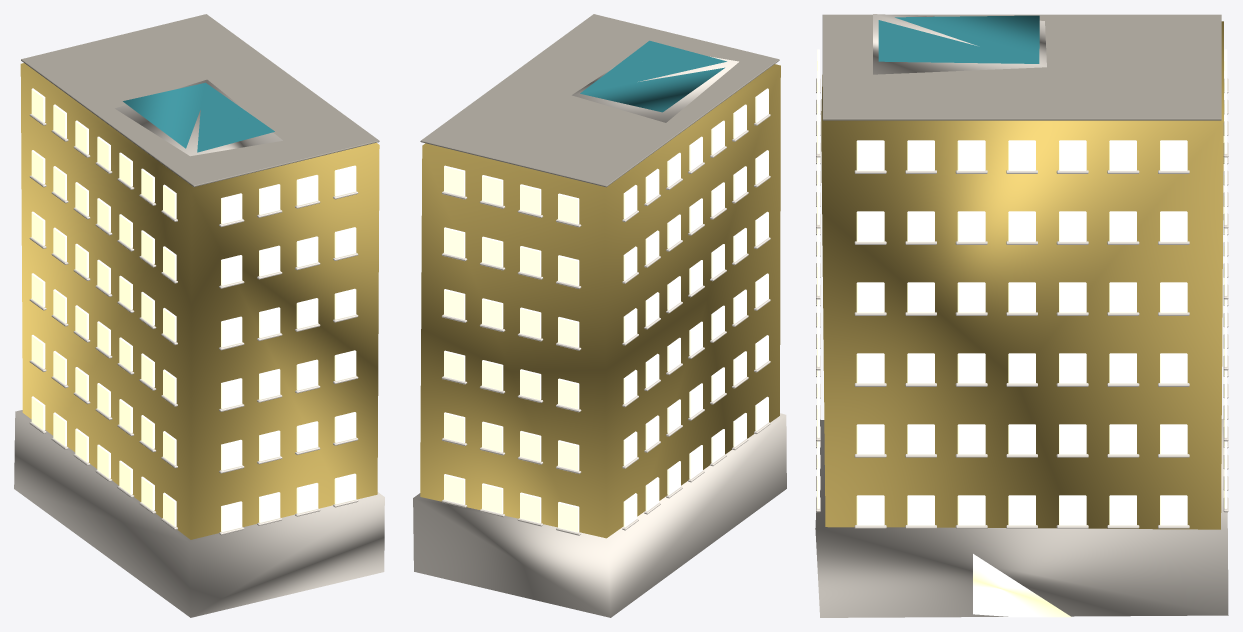
Rendered from hotel.glb.
3 renders of one model, left to right at view 1: azimuth 30°, elevation 25°; view 2: azimuth 150°, elevation 25°; view 3: azimuth 270°, elevation 25°, orthographic. The views are drawn at different scales.
Visible parts, largest first — view 1: hotel; view 2: hotel; view 3: hotel.
Boxes of the visible parts, x1,y1,x2,y2 form: hotel: [14, 14, 384, 617]; hotel: [413, 14, 786, 617]; hotel: [815, 14, 1228, 617].
Size of the model in its own units: 10.52 by 22.24 by 16.35.
Materials: 1 (1 with a texture image).
